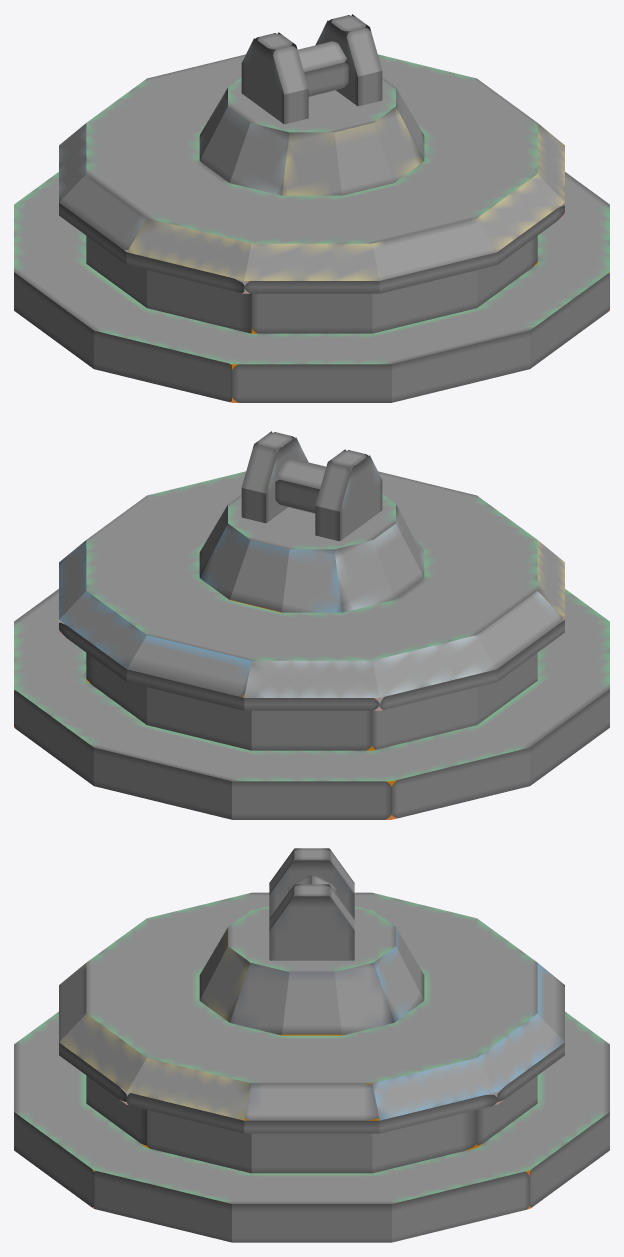
File: Magnet.fbx
3 views of the same model, one above another, from view 1: azimuth 30°, elevation 25°; view 2: azimuth 150°, elevation 25°; view 3: azimuth 270°, elevation 25° (orthographic).
Parts seen in each view (by area): view 1: Magnet; view 2: Magnet; view 3: Magnet.
Part boxes in pixels (x1,y1,x2,y2): Magnet: [14, 14, 609, 402]; Magnet: [14, 431, 609, 819]; Magnet: [14, 848, 609, 1242].
Bounding box in the file's own units: 262 × 119 × 262.
Materials: 1 (1 with a texture image).
